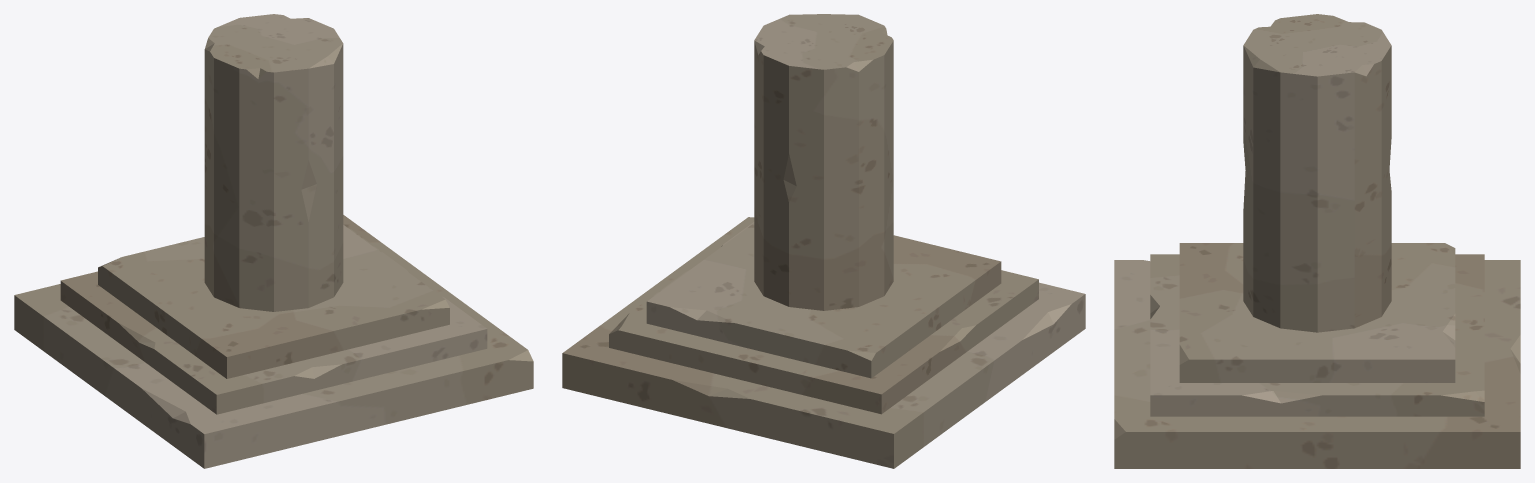
The model's file is SM_Prop_Statue_Base_01.glb.
3 renders of one model, left to right at view 1: azimuth 30°, elevation 25°; view 2: azimuth 150°, elevation 25°; view 3: azimuth 270°, elevation 25°, orthographic. The views are drawn at different scales.
Visible parts, largest first — view 1: SM_Prop_Statue_Base_01; view 2: SM_Prop_Statue_Base_01; view 3: SM_Prop_Statue_Base_01.
Boxes of the visible parts, bbox=[...] form: SM_Prop_Statue_Base_01: bbox=[14, 14, 533, 468]; SM_Prop_Statue_Base_01: bbox=[562, 14, 1085, 468]; SM_Prop_Statue_Base_01: bbox=[1114, 14, 1520, 468].
Size of the model in its own units: 3.44 by 3.16 by 3.44.
1 material, 1 textured.
